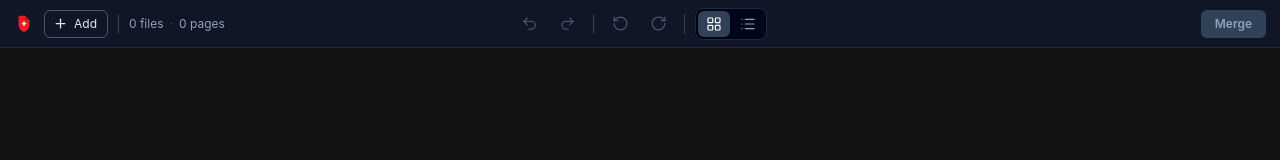
Toolbar › closes the menu after the Files… item runs
The image size is (1280, 160).
Click the button "Add".
click(76, 24)  # box [44,10,108,38]
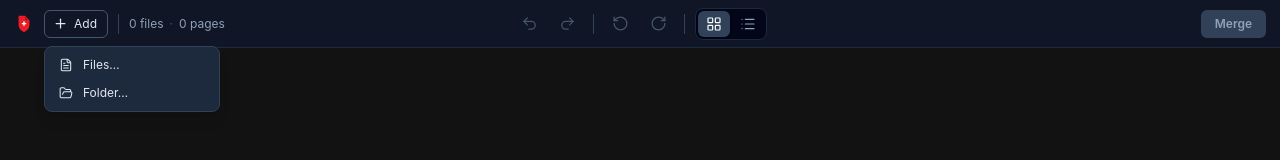
Click the menu item "Files…".
click(132, 64)  # box [49,50,215,78]
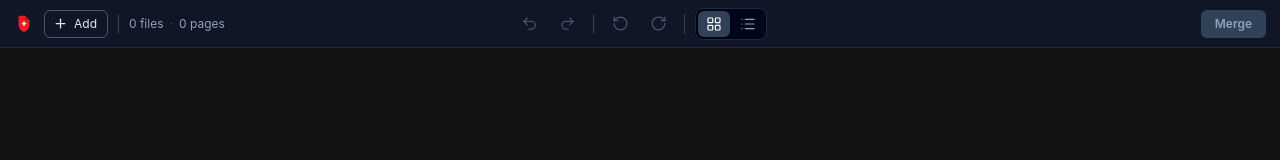
Now the menu is gone
